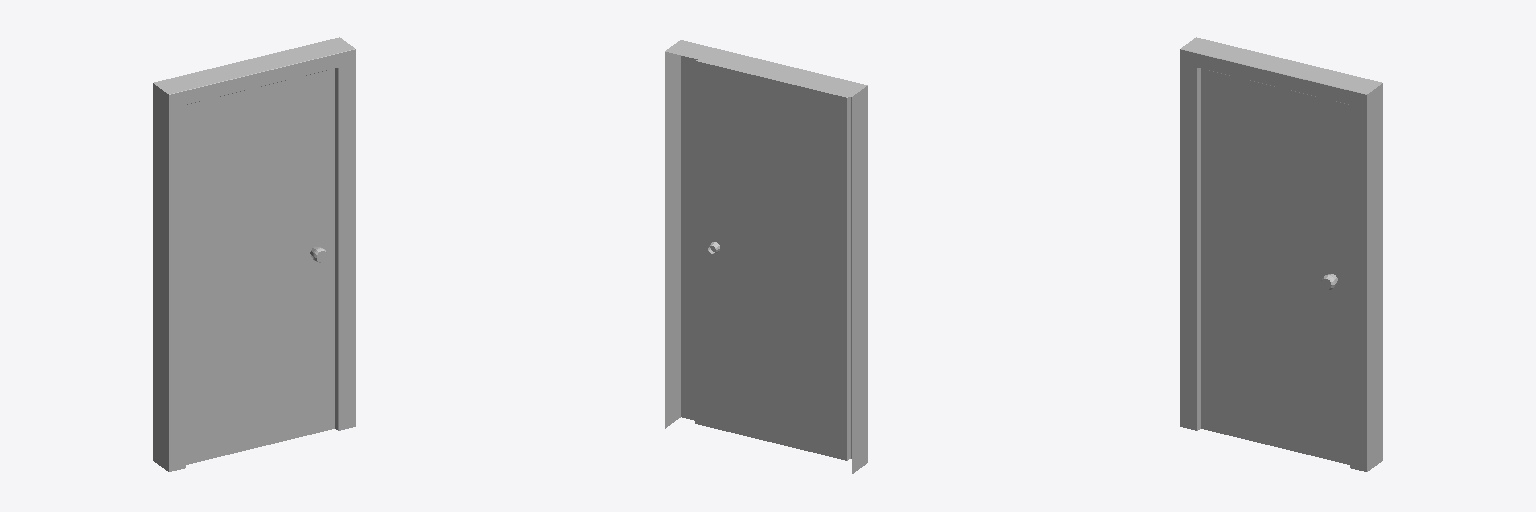
Rendered from Fake_Door.obj.
3 renders of one model, left to right at view 1: azimuth 30°, elevation 25°; view 2: azimuth 150°, elevation 25°; view 3: azimuth 330°, elevation 25°, orthographic.
Parts seen in each view (by area): view 1: Fake_Porte_Cube.007; view 2: Fake_Porte_Cube.007; view 3: Fake_Porte_Cube.007.
Part boxes in pixels (x1,y1,x2,y2): Fake_Porte_Cube.007: (153,37,355,471); Fake_Porte_Cube.007: (665,40,867,473); Fake_Porte_Cube.007: (1180,37,1382,471).
Size of the model in its own units: 1.14 by 2.2 by 0.2055.